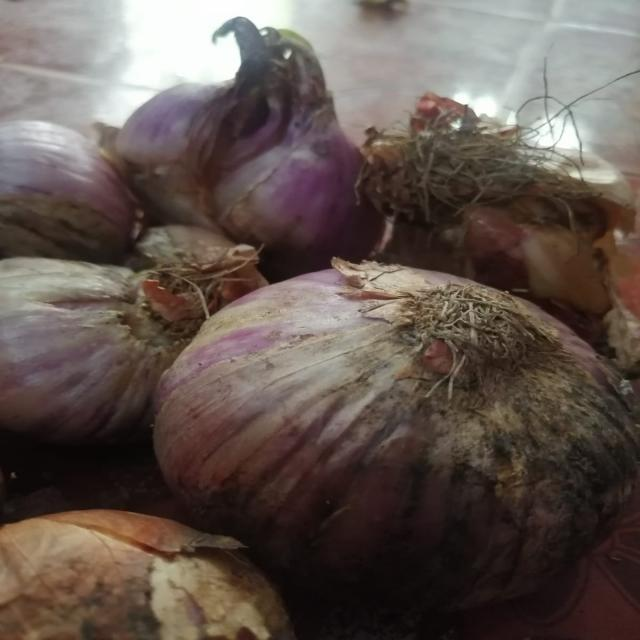rotten: (102, 562, 288, 634), (518, 408, 636, 494), (211, 91, 295, 210)
sprouting: (228, 15, 324, 88)
